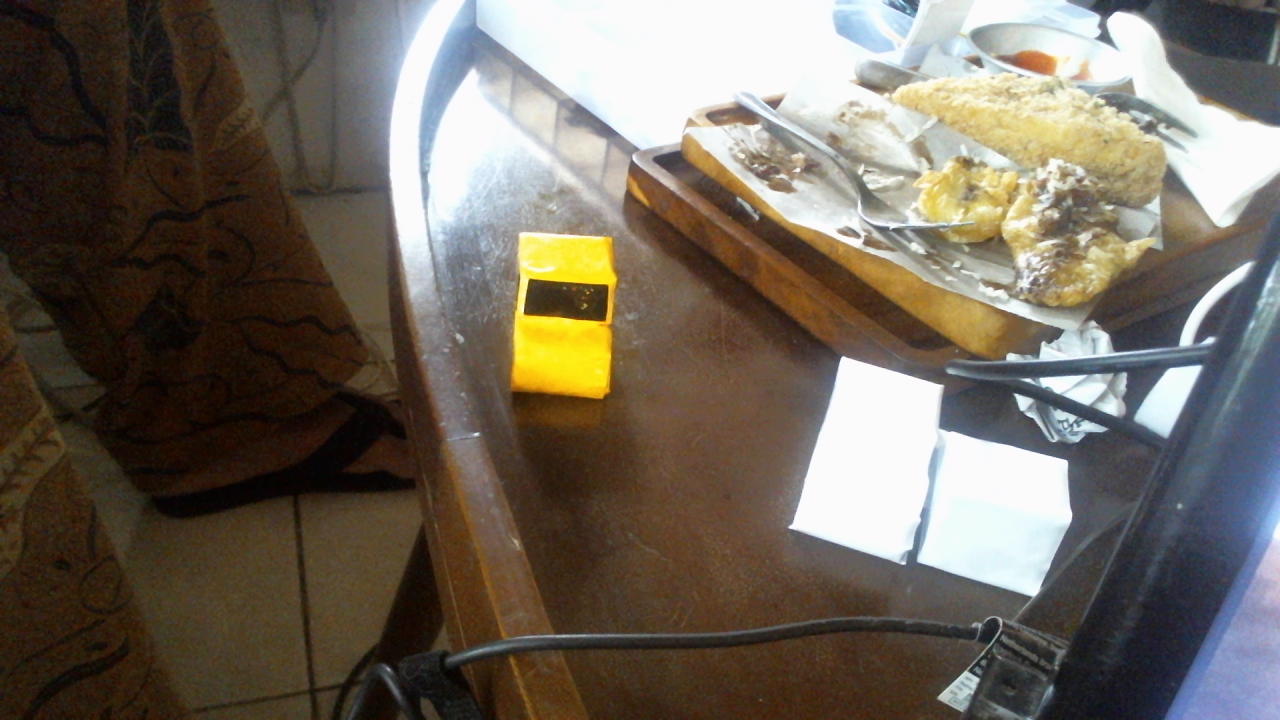Kijang Kapsul: (476, 200, 668, 426)
